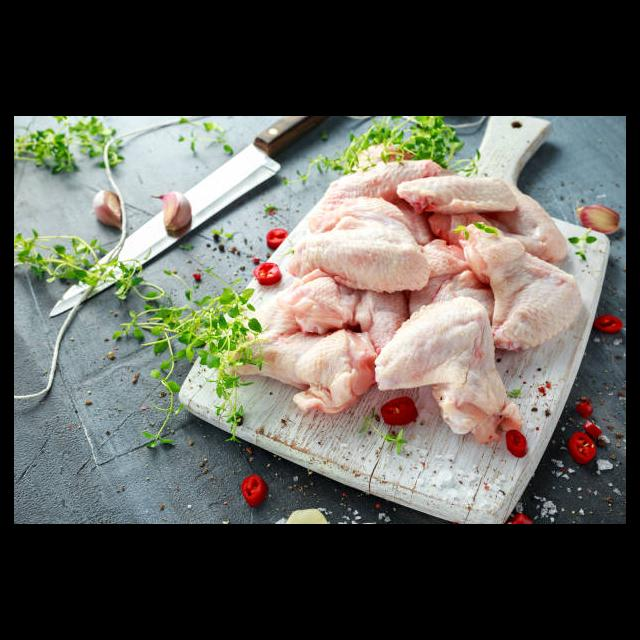chicken: (228, 167, 584, 452)
